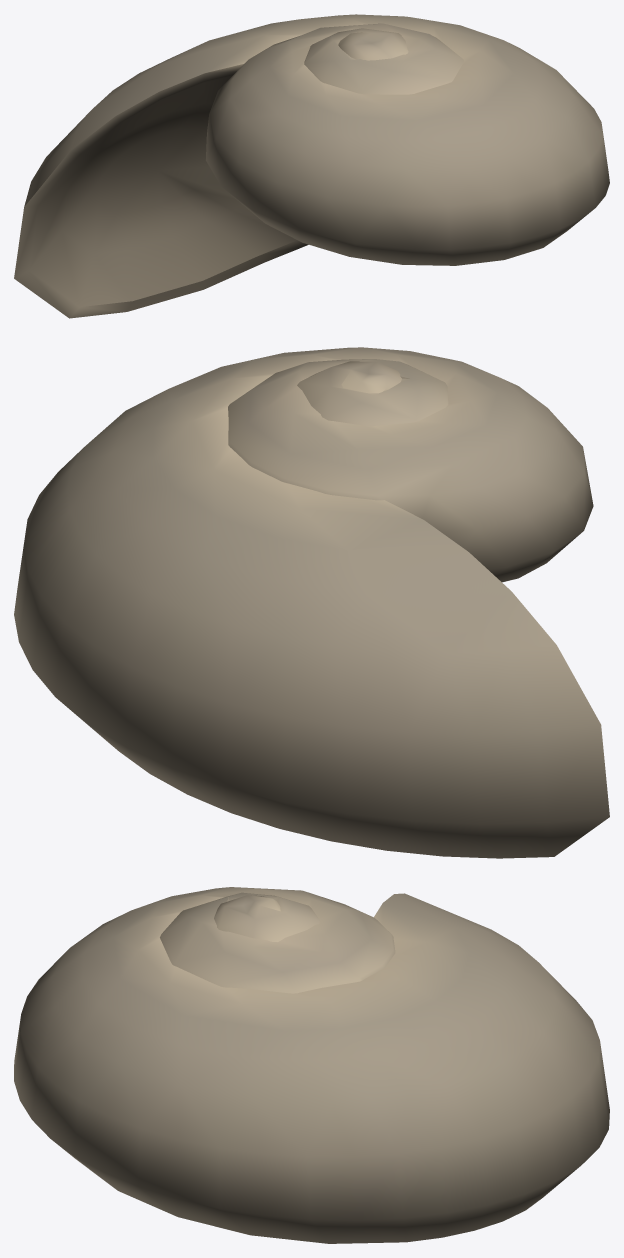
Rendered from underwater-shells-flat-snail-shell_v1.glb.
The picture shows the model from 3 angles, top to bottom: view 1: azimuth 30°, elevation 25°; view 2: azimuth 150°, elevation 25°; view 3: azimuth 270°, elevation 25°; orthographic projection. The views are drawn at different scales.
Parts seen in each view (by area): view 1: Flat Snail Shell; view 2: Flat Snail Shell; view 3: Flat Snail Shell.
Part boxes in pixels (bbox=[...]): Flat Snail Shell: bbox=[14, 14, 609, 318]; Flat Snail Shell: bbox=[14, 347, 609, 858]; Flat Snail Shell: bbox=[14, 887, 609, 1243].
Size of the model in its own units: 0.05 by 0.0272 by 0.0454.
